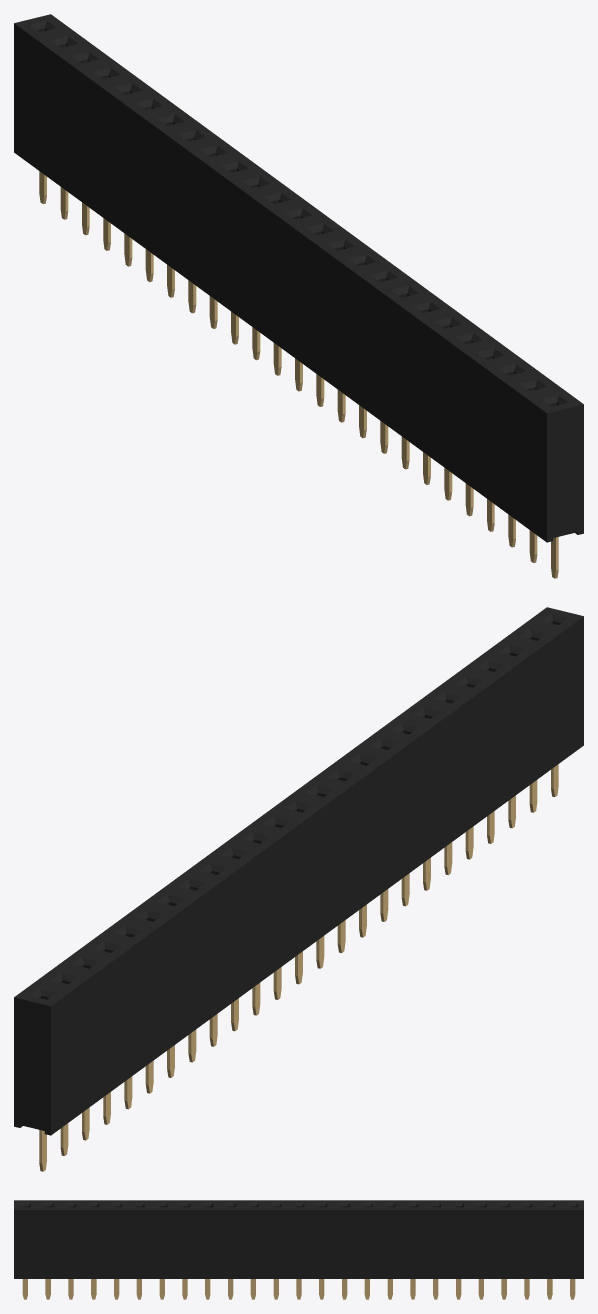
The model's file is kc-pinsocket_1x25_p2.54mm_vertical.glb.
3 views of the same model, one above another, from view 1: azimuth 30°, elevation 25°; view 2: azimuth 150°, elevation 25°; view 3: azimuth 270°, elevation 25° (orthographic). The views are drawn at different scales.
Visible parts, largest first — view 1: 0_0_0_0, 0.75_0.5_0.25_0.9; view 2: 0_0_0_0, 0.75_0.5_0.25_0.9; view 3: 0_0_0_0, 0.75_0.5_0.25_0.9.
Part boxes in pixels (x1,y1,x2,y2): 0_0_0_0: [14, 14, 583, 542]; 0.75_0.5_0.25_0.9: [39, 171, 558, 578]; 0_0_0_0: [14, 607, 583, 1135]; 0.75_0.5_0.25_0.9: [39, 764, 558, 1171]; 0_0_0_0: [14, 1200, 583, 1278]; 0.75_0.5_0.25_0.9: [22, 1279, 575, 1299].
Bounding box in the file's own units: 0.2543 × 1.16 × 6.35.
